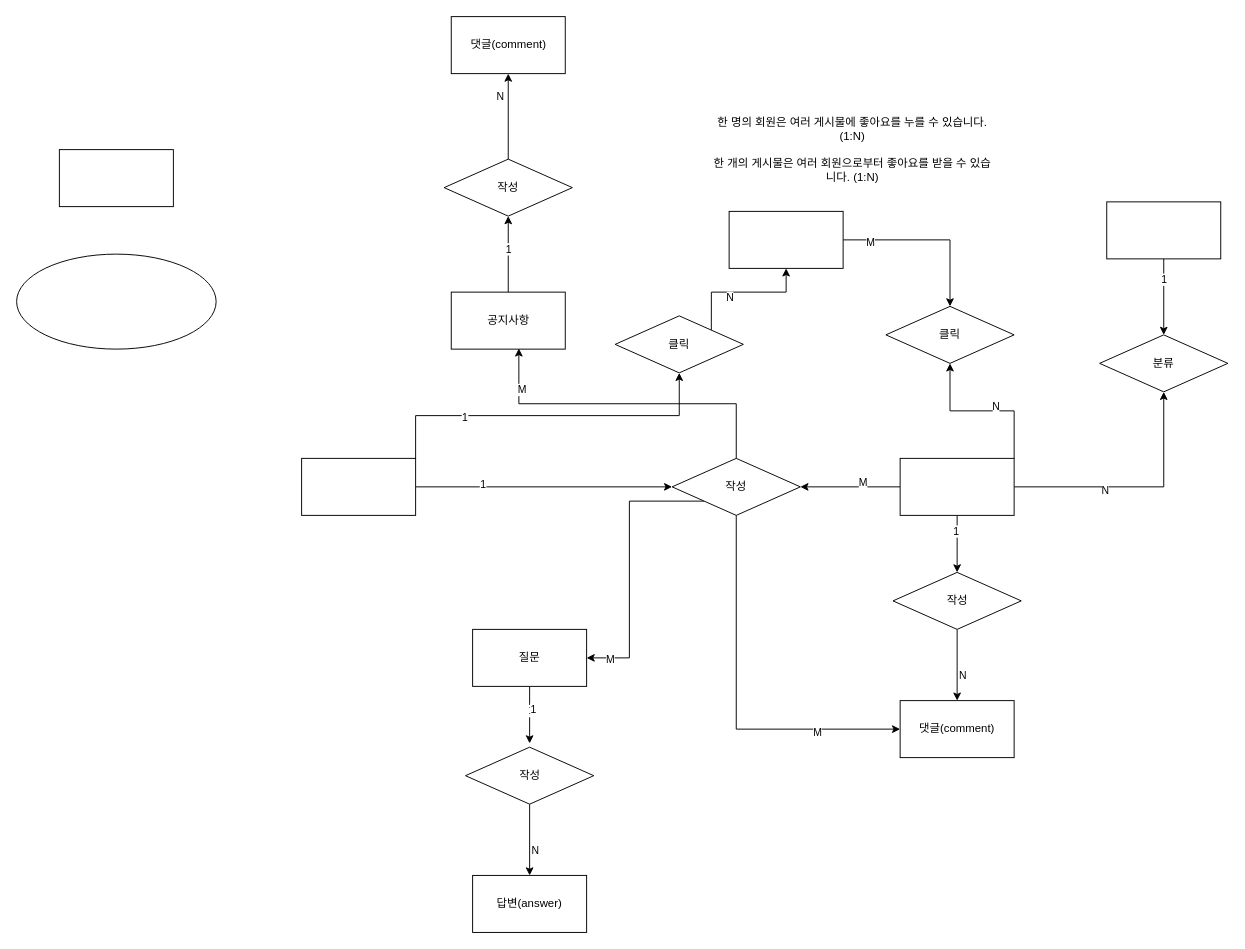
Image size: 1245x949. Some labels were removed from this diagram. Here are the shapes that lost their labels. From the top down, the box of each, then its label:
(58, 149, 173, 207): 테이블입니다.
(728, 210, 843, 268): 좋아요
(1106, 201, 1221, 259): 카테고리
(16, 253, 216, 349): 선에 보시면 테이블간의 관계를 표현해두었습니다.
(301, 457, 416, 515): 회원
(899, 457, 1014, 515): 게시글(board)
